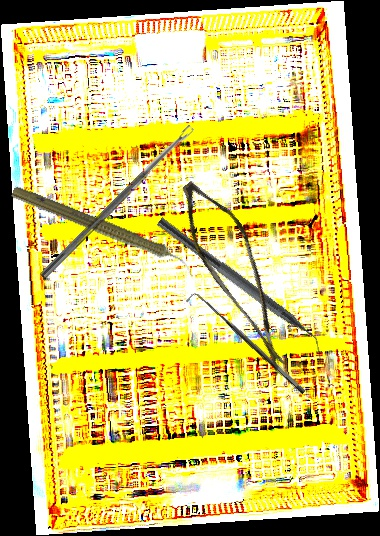Chopper: (148, 217, 333, 361)
Handpiece: (7, 182, 202, 279)
Hook Surgical: (184, 286, 308, 403)
Micro Scissor: (150, 172, 328, 374)
Surgical Spoon: (39, 124, 196, 281)
